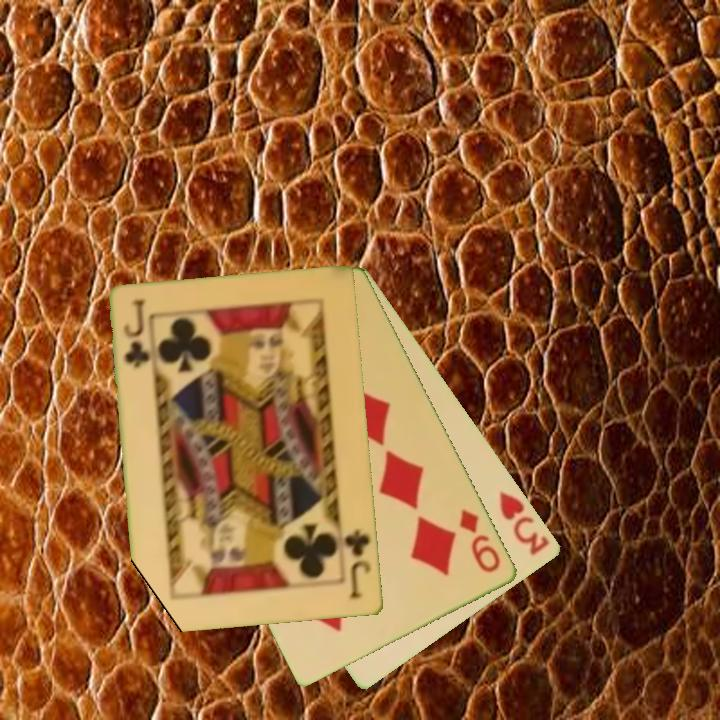3h: (496, 488, 554, 559)
9d: (456, 505, 504, 576)
Jc: (341, 526, 374, 602), (120, 295, 152, 371)
